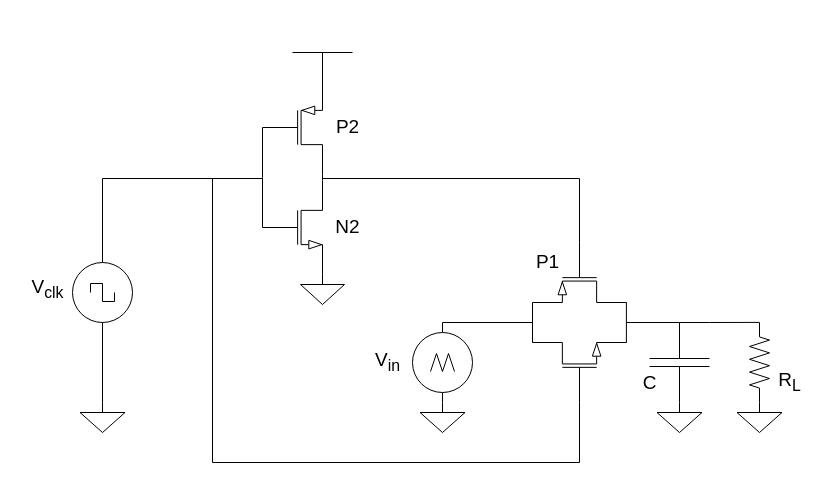
Image size: 831x481. Some labels were removed from this diagram. Here are the shapes that lost their labels. From the top down, the centre of each, then its label:
the point at 322,67: V dd
the point at 579,372: N1
